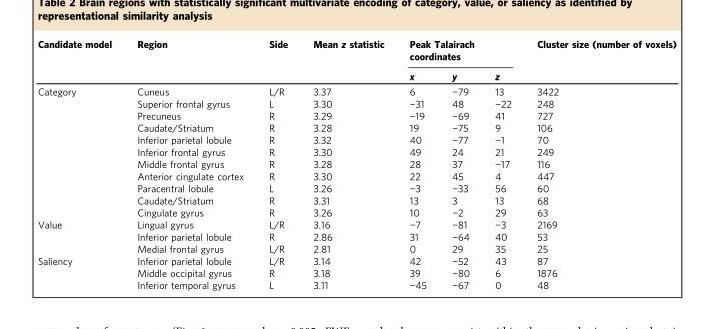table: (36, 37, 675, 290)
table column: (523, 37, 675, 290), (123, 37, 255, 290), (299, 37, 396, 290), (36, 37, 123, 290), (255, 37, 299, 290), (438, 37, 481, 290), (396, 37, 438, 290), (481, 37, 523, 290)
table column header: (36, 37, 675, 83)
table row: (36, 37, 675, 65), (36, 65, 675, 83), (36, 83, 675, 96), (36, 96, 675, 109), (36, 217, 675, 230), (36, 109, 675, 121), (36, 121, 675, 133), (36, 133, 675, 145), (36, 145, 675, 157), (36, 157, 675, 169), (36, 169, 675, 181), (36, 181, 675, 193), (36, 193, 675, 205), (36, 205, 675, 217), (36, 230, 675, 242), (36, 242, 675, 254), (36, 254, 675, 266), (36, 266, 675, 278), (36, 278, 675, 290)
table spanning cell: (36, 83, 123, 217), (523, 37, 675, 83), (123, 37, 255, 83), (299, 37, 396, 83), (36, 37, 123, 83), (396, 37, 523, 65), (36, 217, 123, 254), (36, 254, 123, 290), (255, 37, 299, 83)
